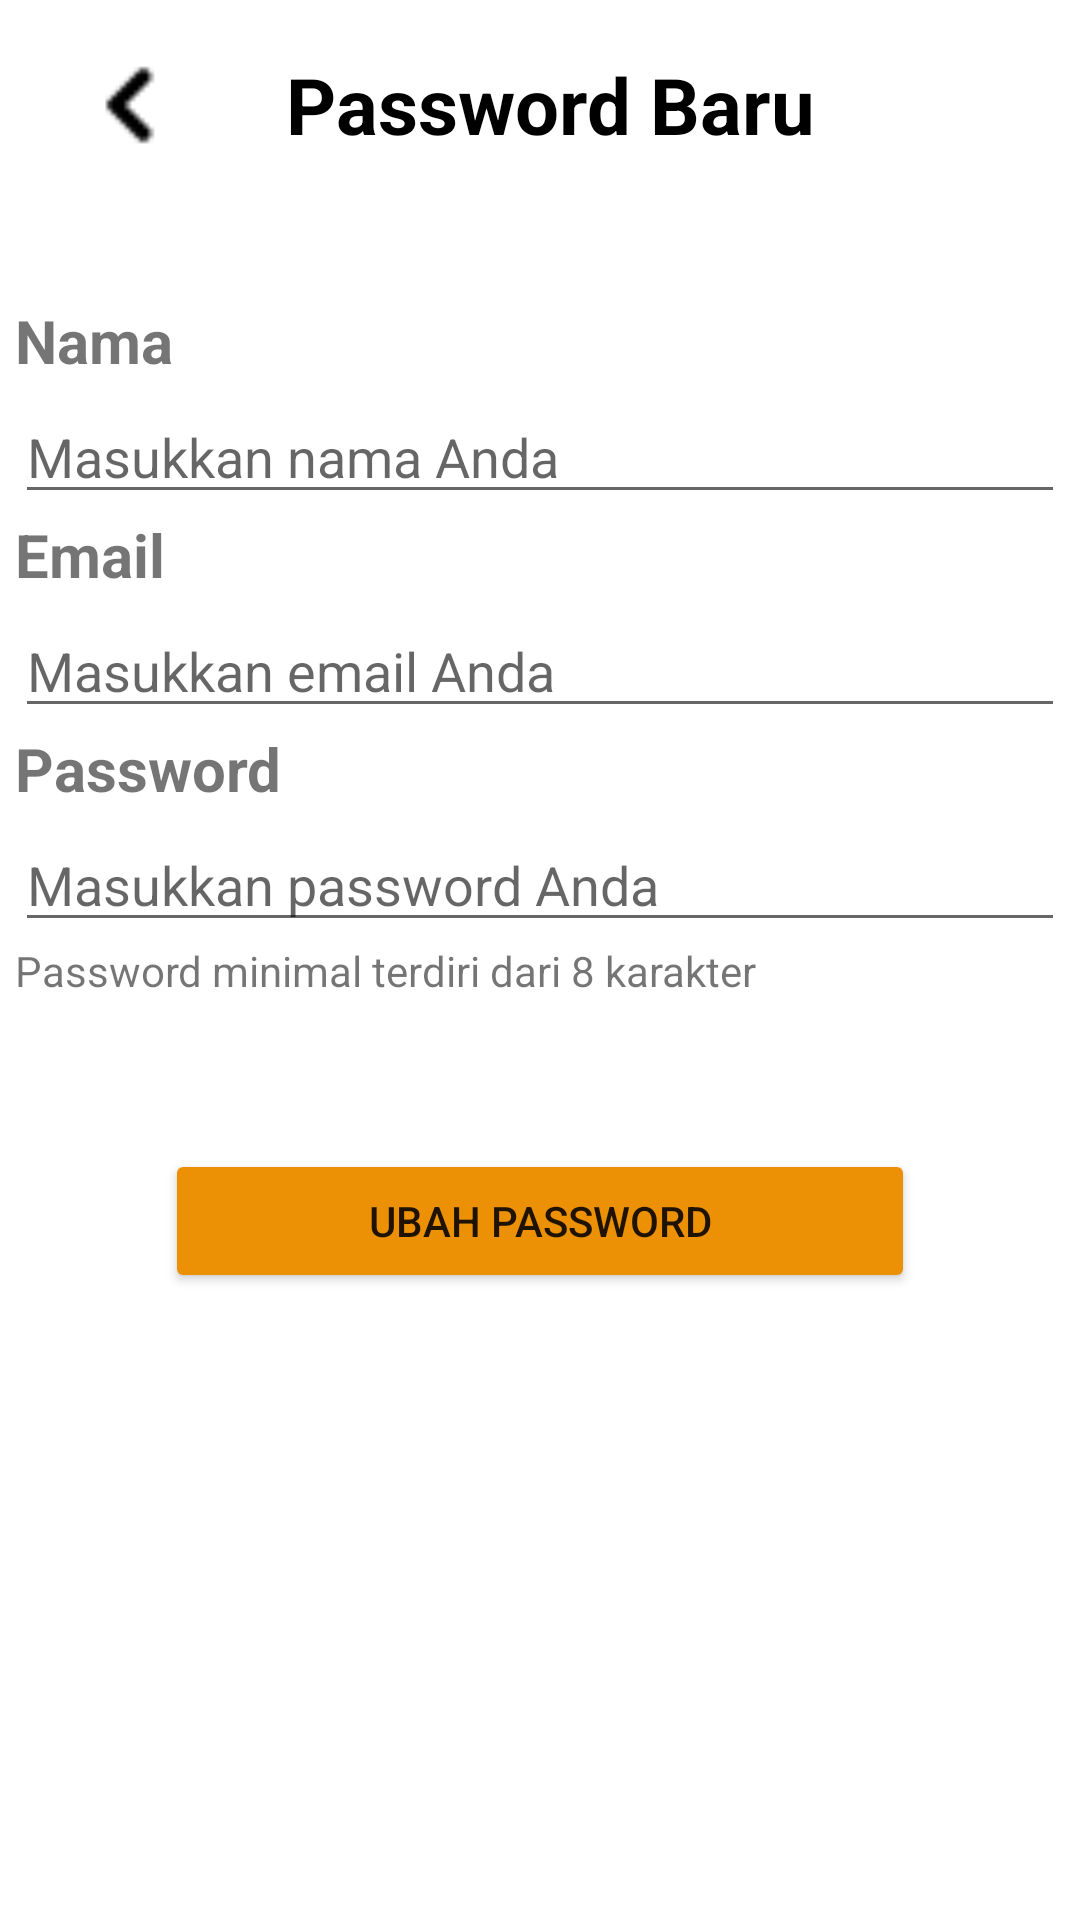

Icons on this 1080px×1920px Android screen, each with its box as (x1, y1, x2, y2):
panah kiri: (105, 66, 154, 144)
